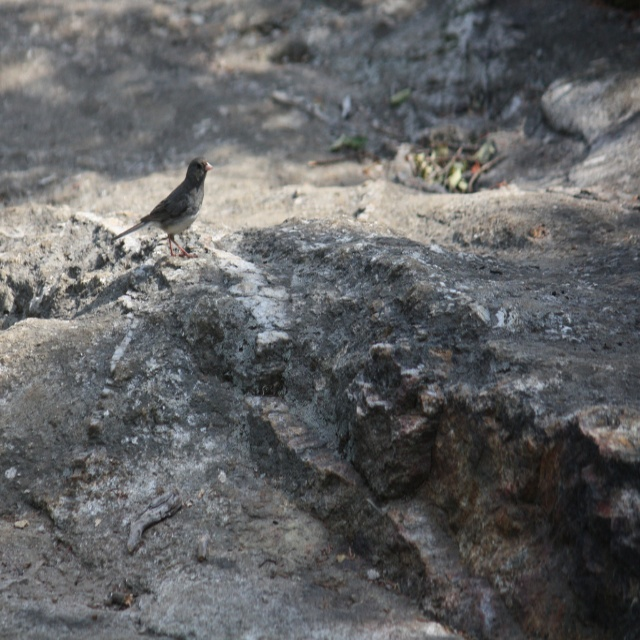Sparrow: (111, 160, 212, 257)
